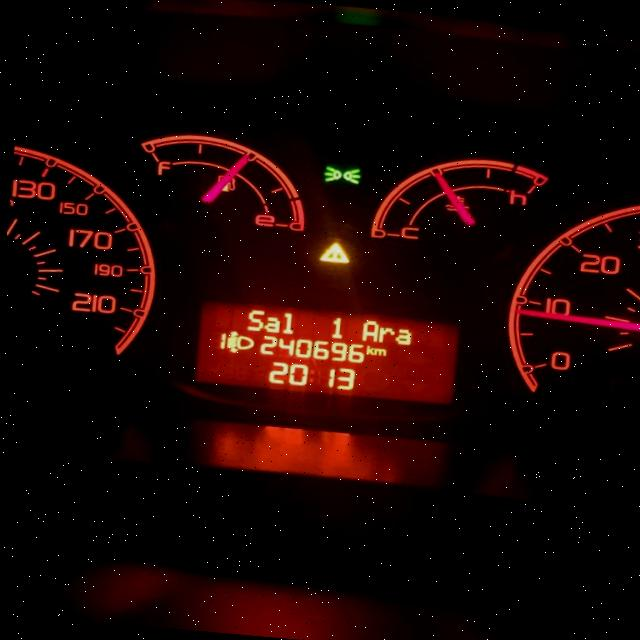odometer: (182, 295, 468, 412)
